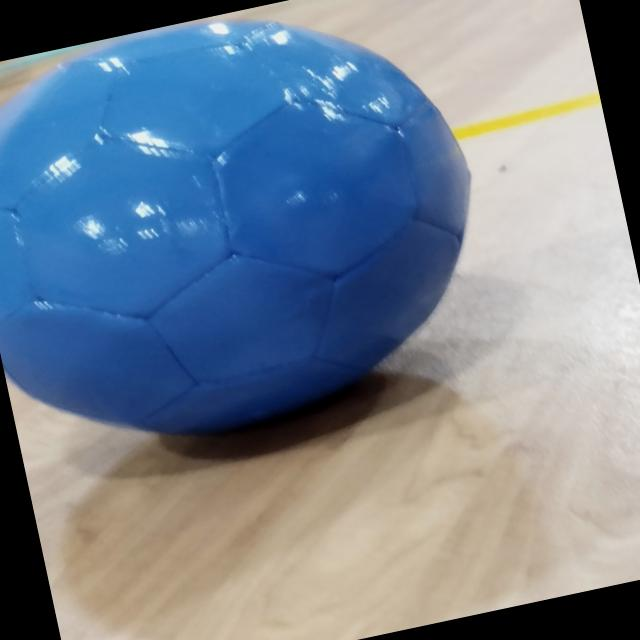blue_ball: (0, 0, 520, 484)
